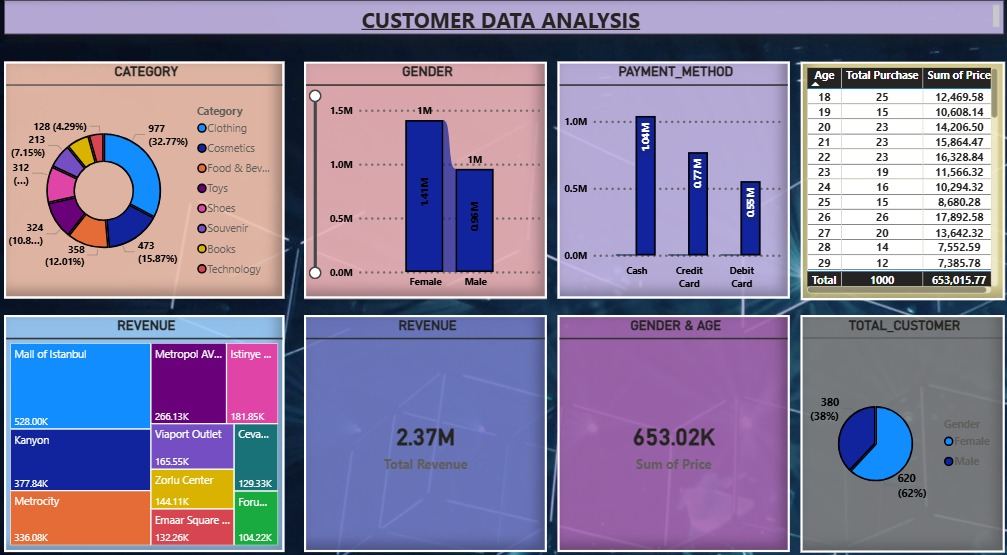

This screenshot's page, from the dashboard's own definition file:
{"tool":"powerbi","page":{"name":"Dashboard","canvas":[1280,720],"ordinal":0},"visuals":[{"type":"textbox","box":[8.3,0,1260,43.3],"z":0},{"type":"columnChart","title":"GENDER","fields":{"Category":["Gender.Gender"],"Y":["Age.Total Purchase","Gender.Gender Revenue"]},"box":[385.5,77.5,306.1,298.6],"z":1000},{"type":"tableEx","fields":{"Values":["Age.Age","Age.Total Purchase","Sum(Customers.Price)"]},"box":[1011,77.5,257,300.5],"z":2000},{"type":"donutChart","title":"CATEGORY","fields":{"Category":["Category.Category"],"Y":["Sum(Customers.Quantity)"]},"box":[7.6,77.5,353.4,298.6],"z":3000},{"type":"treemap","title":"REVENUE","fields":{"Group":["Revenue.Shopping_Mall"],"Values":["Revenue.Total Revenue"]},"box":[7.6,396.9,353.4,298.6],"z":4000},{"type":"clusteredColumnChart","title":"PAYMENT_METHOD","fields":{"Category":["Payment_method.Payment_method"],"Y":["Payment_method.Total Transactions","Revenue.Total Revenue"]},"box":[704.9,77.5,292.9,298.6],"z":5000},{"type":"card","title":"REVENUE","fields":{"Values":["Revenue.Total Revenue"]},"box":[385.5,396.9,306.1,298.6],"z":6000},{"type":"card","title":"GENDER & AGE","fields":{"Values":["Sum(Customers.Price)"]},"box":[704.9,396.9,292.9,298.6],"z":7000},{"type":"pieChart","title":"TOTAL_CUSTOMER","fields":{"Category":["Customers.Gender"],"Y":["Customers.Total Customers"]},"box":[1011,397,257,299],"z":8000}]}

Visuals, with their boxes in screenshot pixels (x1, y1, x2, y2), scaled from the page's 1280x720 canvas onto the 1007x555 screenshot:
textbox: x1=7, y1=0, x2=998, y2=33
"GENDER" columnChart: x1=303, y1=60, x2=544, y2=290
tableEx - Age.Age x Age.Total Purchase: x1=795, y1=60, x2=998, y2=291
"CATEGORY" donutChart: x1=6, y1=60, x2=284, y2=290
"REVENUE" treemap: x1=6, y1=306, x2=284, y2=536
"PAYMENT_METHOD" clusteredColumnChart: x1=555, y1=60, x2=785, y2=290
"REVENUE" card: x1=303, y1=306, x2=544, y2=536
"GENDER & AGE" card: x1=555, y1=306, x2=785, y2=536
"TOTAL_CUSTOMER" pieChart: x1=795, y1=306, x2=998, y2=536
